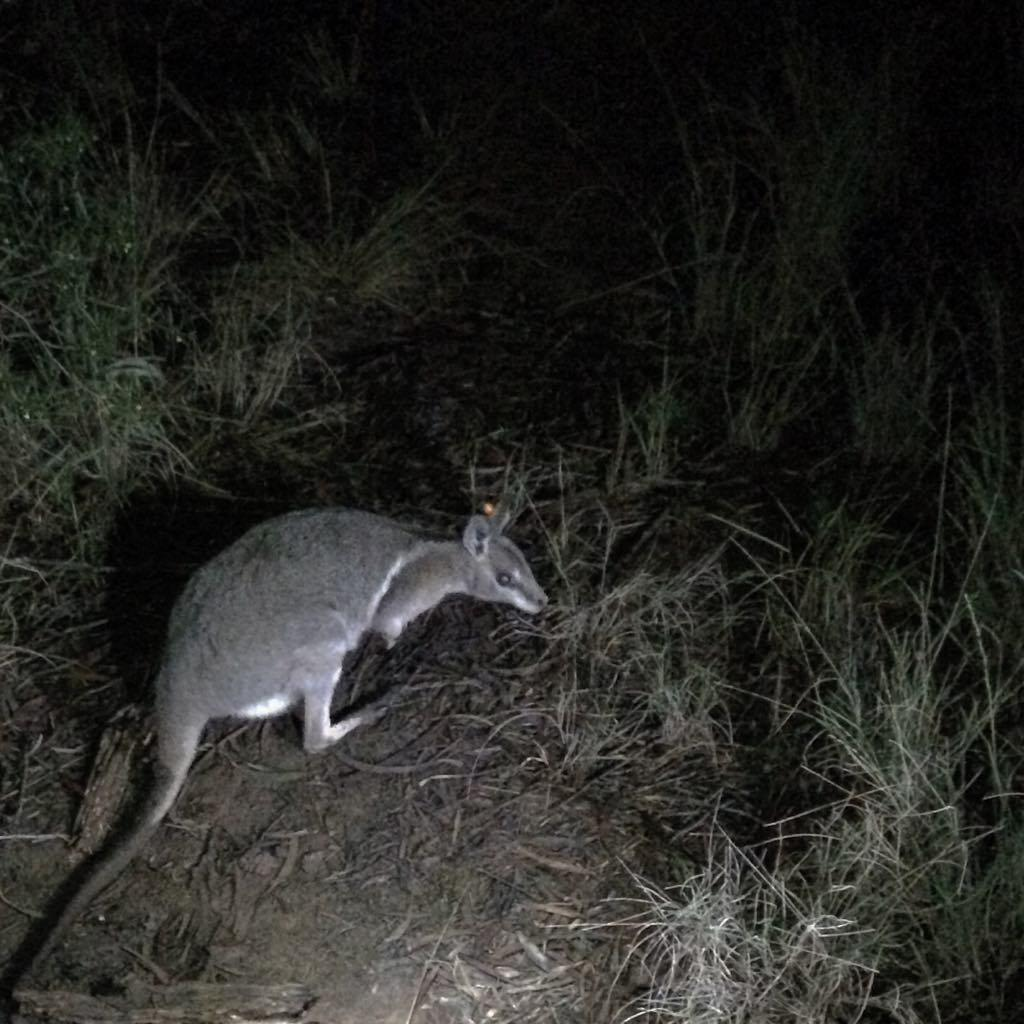Bridled-nail-tail wallaby: (0, 503, 550, 1024)
